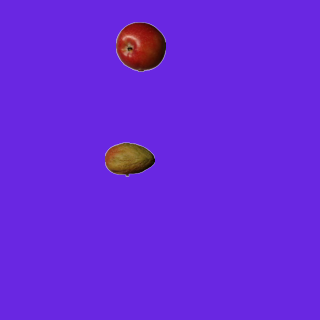Apple Braeburn: (115, 21, 165, 71)
Papaya: (104, 134, 154, 184)
